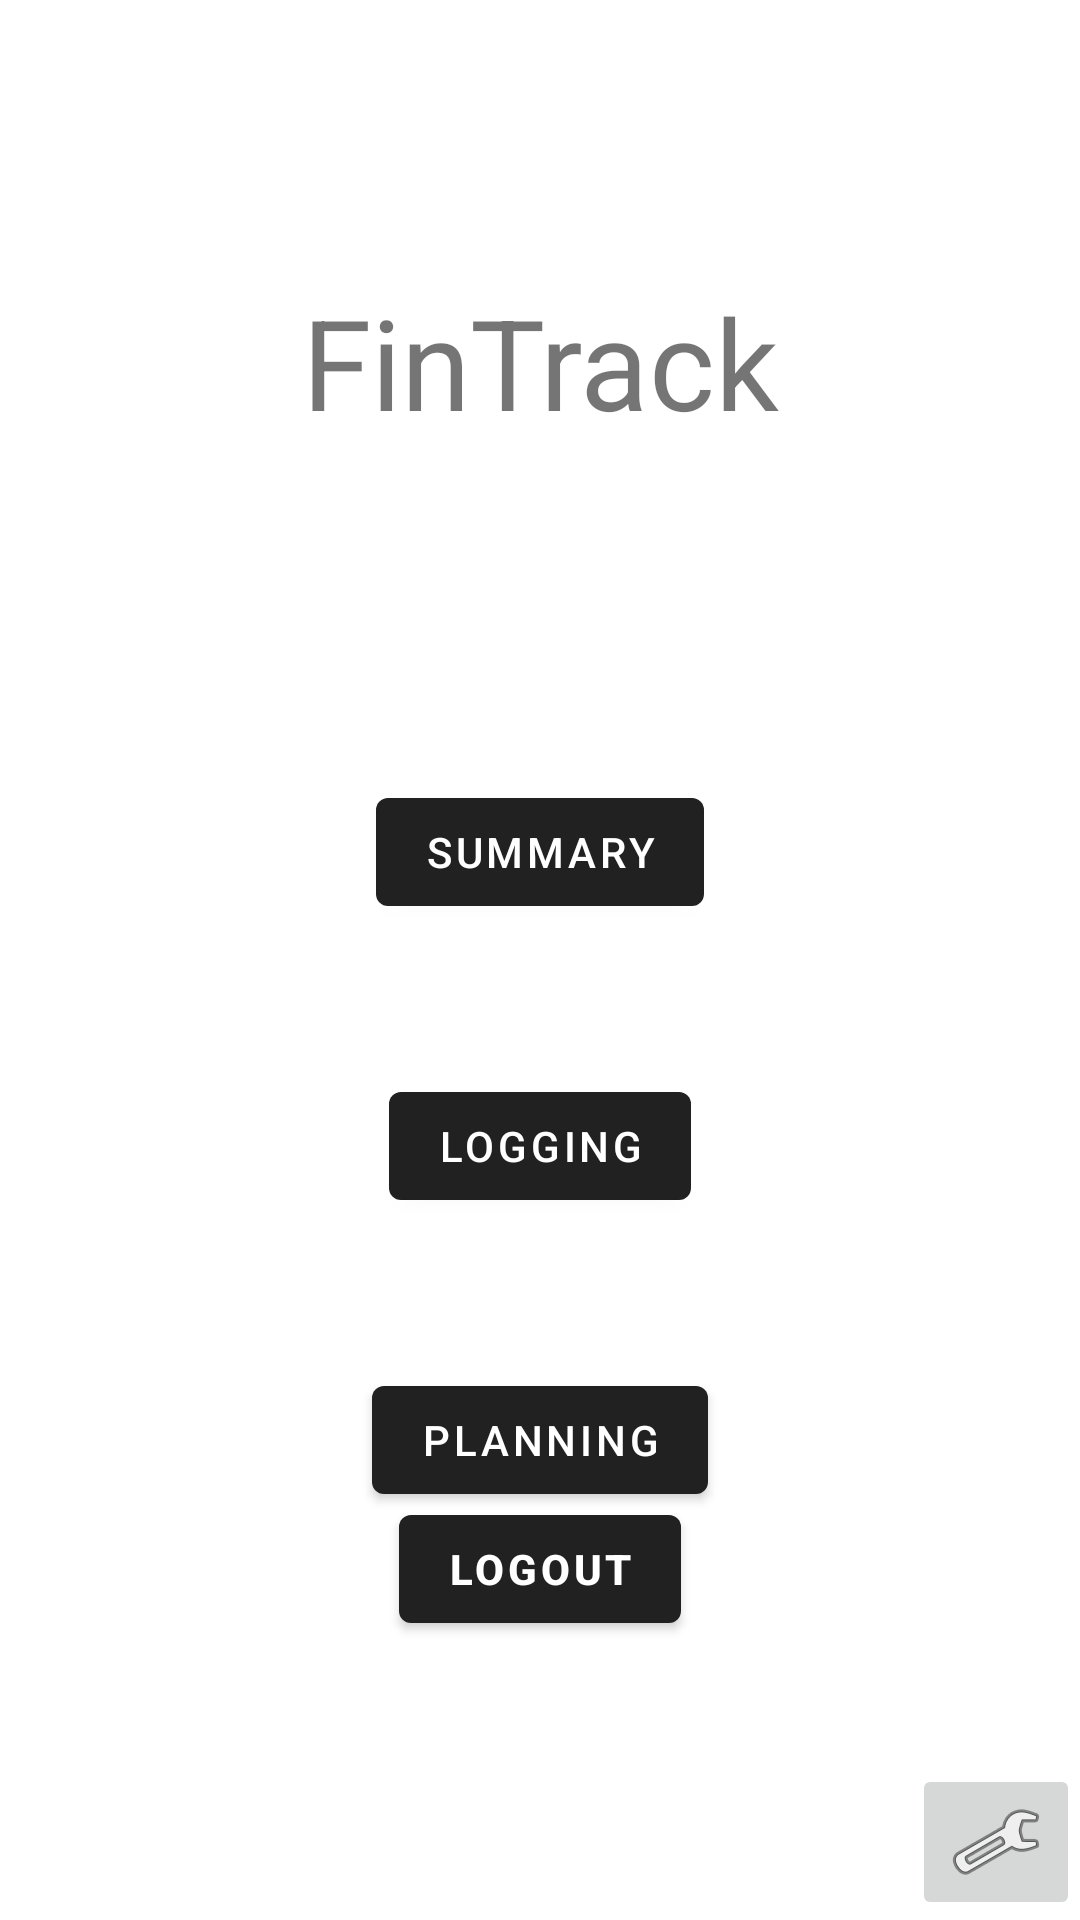

Named icons in this screenshot (1080px×1920px) and their centers, point (x, y):
Setting: point (996, 1842)
